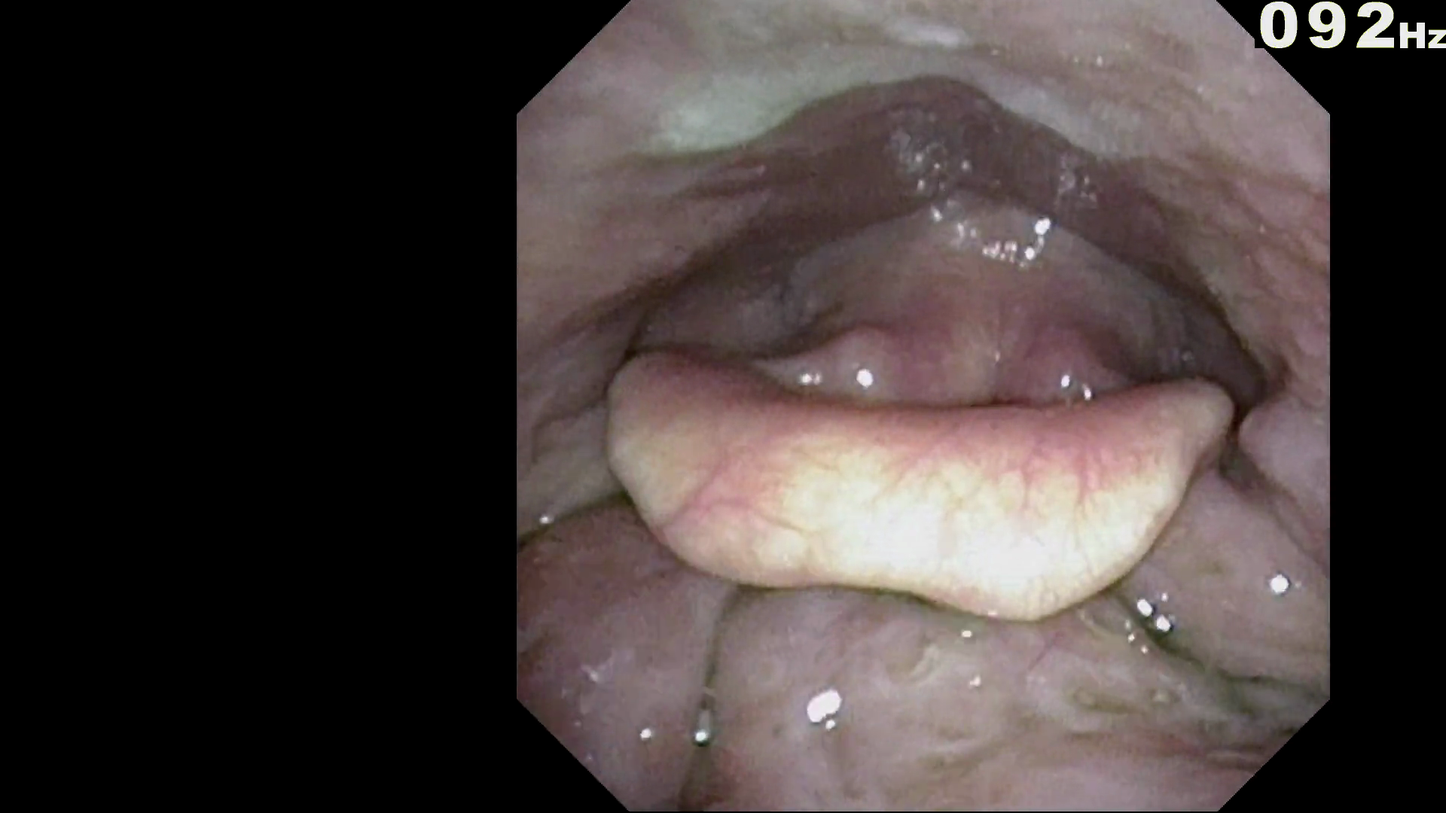epiglottis: (606, 372, 1218, 603)
trachea: (924, 368, 1021, 440)
